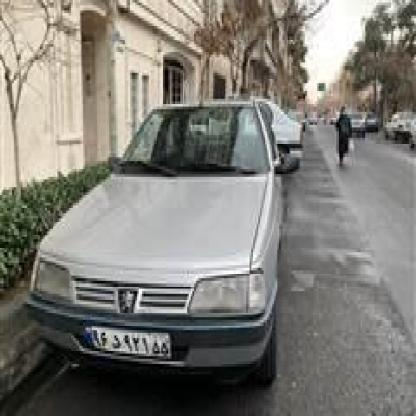Car: (25, 94, 296, 392), (255, 96, 314, 177), (385, 107, 412, 150), (349, 112, 370, 135)
